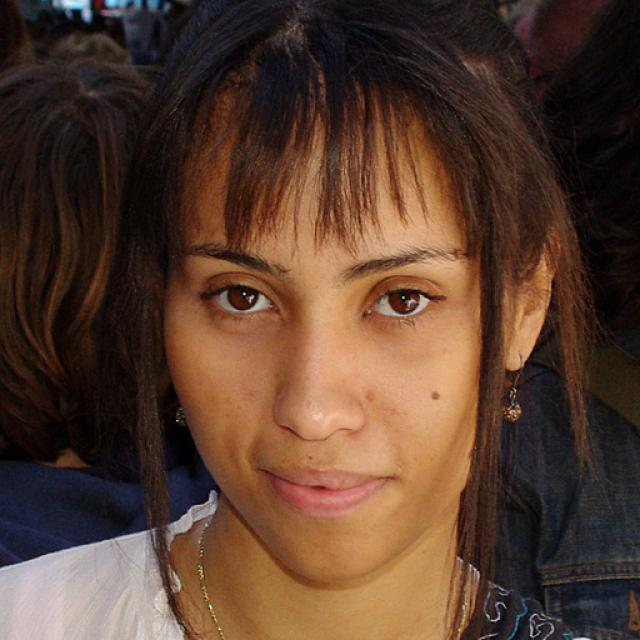Acne: (360, 386, 382, 408), (422, 388, 442, 408)
